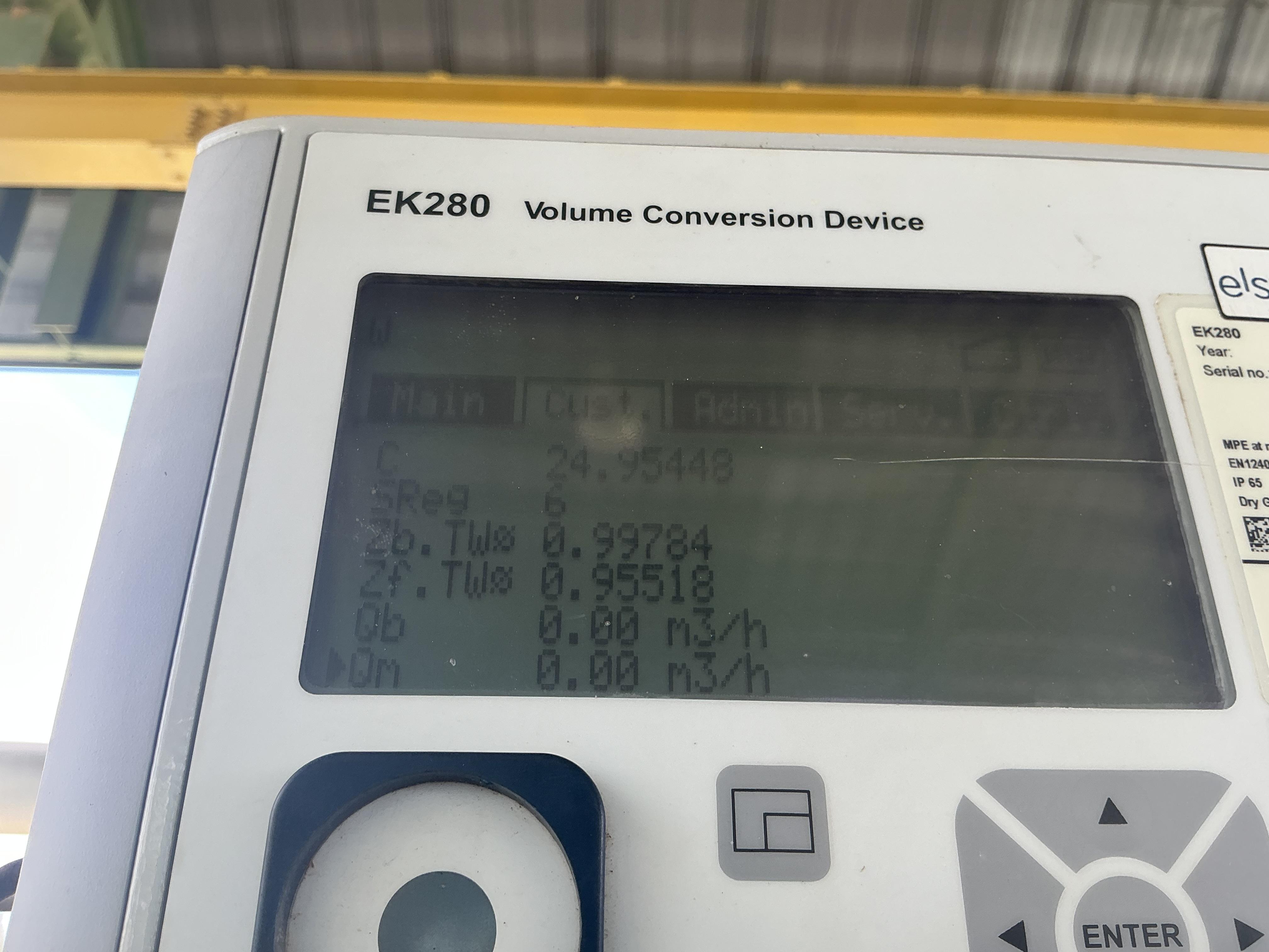digital_screen: (303, 276, 1239, 701)
